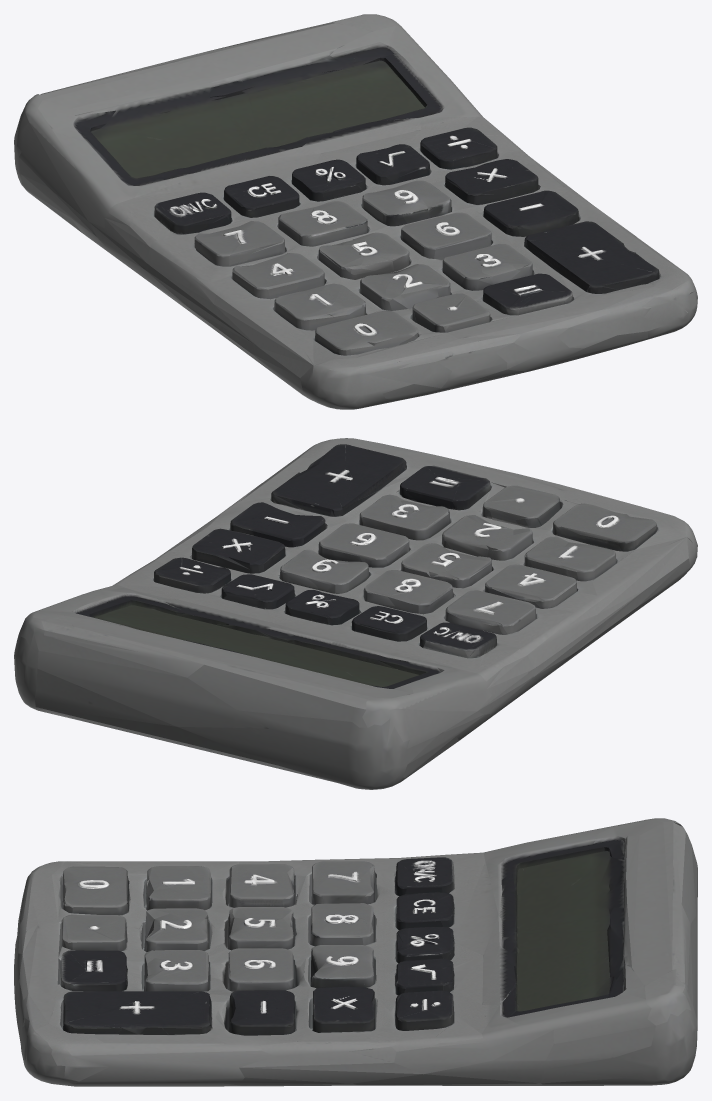
File: remeshed-calc-12000.glb
3 views of the same model, one above another, from view 1: azimuth 30°, elevation 25°; view 2: azimuth 150°, elevation 25°; view 3: azimuth 270°, elevation 25° (orthographic). The views are drawn at different scales.
Visible parts, largest first — view 1: output_unwrapped; view 2: output_unwrapped; view 3: output_unwrapped.
Part boxes in pixels (x1,y1,x2,y2): output_unwrapped: (14,14,697,409); output_unwrapped: (14,438,697,789); output_unwrapped: (14,818,697,1086).
Size of the model in its own units: 1.28 by 0.2799 by 1.9.
1 material, 1 textured.
